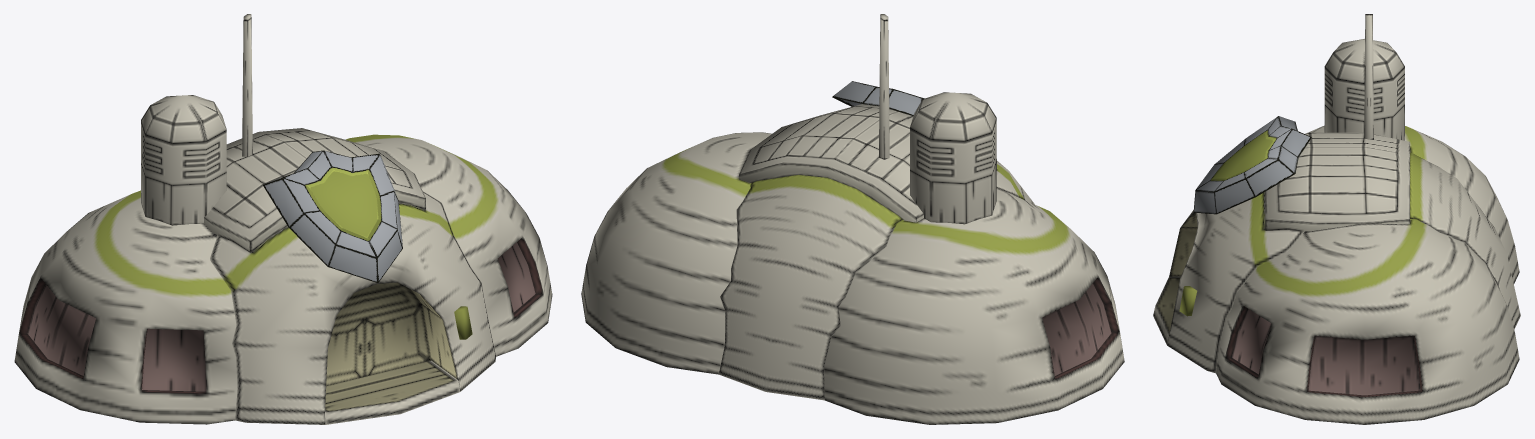
The model's file is jianzhu05.FBX.
3 views of the same model, side by side, from view 1: azimuth 30°, elevation 25°; view 2: azimuth 150°, elevation 25°; view 3: azimuth 270°, elevation 25° (orthographic). The views are drawn at different scales.
Visible parts, largest first — view 1: default003; view 2: default003; view 3: default003.
Part boxes in pixels (<box>): default003: <box>14,14,552,424</box>; default003: <box>581,14,1124,424</box>; default003: <box>1153,14,1520,424</box>.
Bounding box in the file's own units: 419 × 259 × 298.
